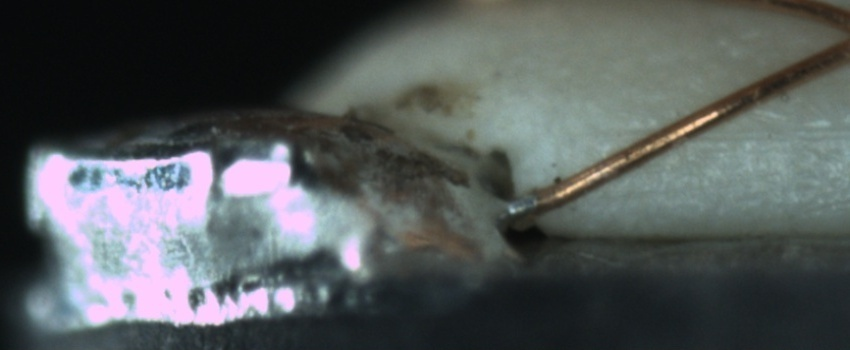CL: (829, 10, 850, 61)
DL: (604, 99, 849, 164)
TS: (503, 191, 539, 218)
